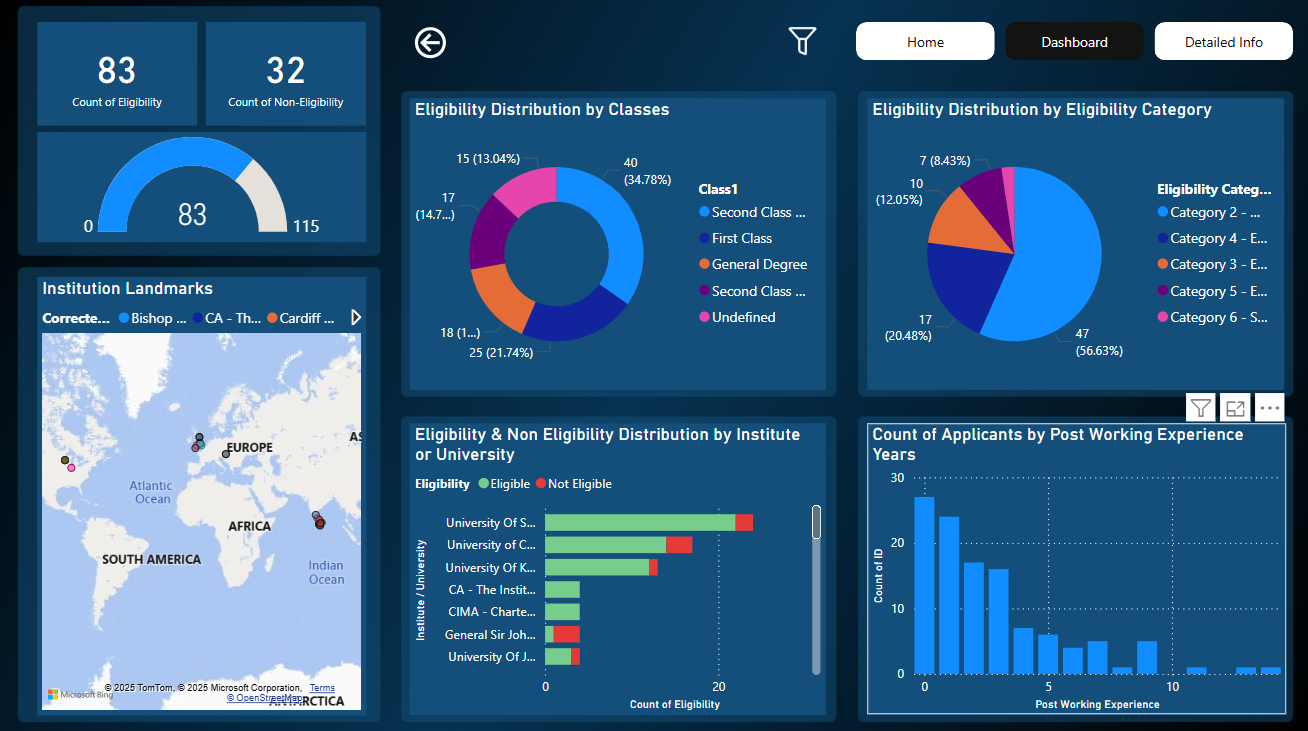

The page's visual inventory and layout, read from the dashboard file:
{"tool":"powerbi","page":{"name":"Dashboard","canvas":[1280,720],"ordinal":1},"visuals":[{"type":"map","title":"Institution Landmarks","fields":{"Category":["Applicant Dataset for Visualization.Corrected Institute 1"],"Series":["Applicant Dataset for Visualization.Corrected Institute 1"]},"box":[44.3,274.9,317.4,423],"z":0},{"type":"barChart","title":"Eligibility & Non Eligibility Distribution  by Institute or University","fields":{"Category":["Applicant Dataset for Visualization.Corrected Institute 1"],"Y":["CountNonNull(Applicant Dataset for Visualization.Eligibility)"],"Series":["Applicant Dataset for Visualization.Eligibility"]},"box":[404.3,415.9,401.7,282],"z":2000},{"type":"columnChart","title":"Count of Applicants by Post Working Experience Years","fields":{"Category":["Applicant Dataset for Visualization.Total_Post_Working_Experience_Years"],"Y":["CountNonNull(Applicant Dataset for Visualization.ID)"]},"box":[845.9,415.9,404.3,282],"z":3000},{"type":"pieChart","title":"Eligibility Distribution by  Eligibility Category ","fields":{"Category":["Applicant Dataset for Visualization.Eligibility Category"],"Y":["CountNonNull(Applicant Dataset for Visualization.Eligibility Category)"]},"box":[845.9,102,402.6,282],"z":4000},{"type":"card","fields":{"Values":["CountNonNull(Applicant Dataset for Visualization.Eligibility)"]},"box":[44.3,29.3,154.3,100.2],"z":5000},{"type":"card","fields":{"Values":["CountNonNull(Applicant Dataset for Visualization.Eligibility)"]},"box":[207.5,29.3,154.3,100.2],"z":6000},{"type":"gauge","fields":{"MinValue":["Applicant Dataset for Visualization.Min"],"Y":["CountNonNull(Applicant Dataset for Visualization.Eligibility)"],"MaxValue":["Applicant Dataset for Visualization.Max"]},"box":[44.3,135.7,317.4,106.4],"z":7000},{"type":"donutChart","title":"Eligibility Distribution by Classes","fields":{"Y":["CountNonNull(Applicant Dataset for Visualization.Eligibility)"],"Category":["Applicant Dataset for Visualization.Class1"]},"box":[404.3,102,401.7,282],"z":8000},{"type":"actionButton","box":[404.3,29.3,100.2,39.9],"z":9000},{"type":"image","box":[760,28.6,45.7,37.1],"z":9500},{"type":"pageNavigator","box":[834.4,29.3,424.7,37.2],"z":10000}]}

Visuals, with their boxes in screenshot pixels (x1, y1, x2, y2), scaled from the page's 1280x720 canvas onto the 1308x731 screenshot:
"Institution Landmarks" map: (45,279,370,709)
"Eligibility & Non Eligibility Distribution  by Institute or University" barChart: (413,422,824,709)
"Count of Applicants by Post Working Experience Years" columnChart: (864,422,1278,709)
"Eligibility Distribution by  Eligibility Category " pieChart: (864,104,1276,390)
card - CountNonNull(Applicant Dataset for Visualization.Eligibility): (45,30,203,131)
card - CountNonNull(Applicant Dataset for Visualization.Eligibility): (212,30,370,131)
gauge - Applicant Dataset for Visualization.Min x CountNonNull(Applicant Dataset for Visualization.Eligibility): (45,138,370,246)
"Eligibility Distribution by Classes" donutChart: (413,104,824,390)
actionButton: (413,30,516,70)
image: (777,29,823,67)
pageNavigator: (853,30,1287,68)
